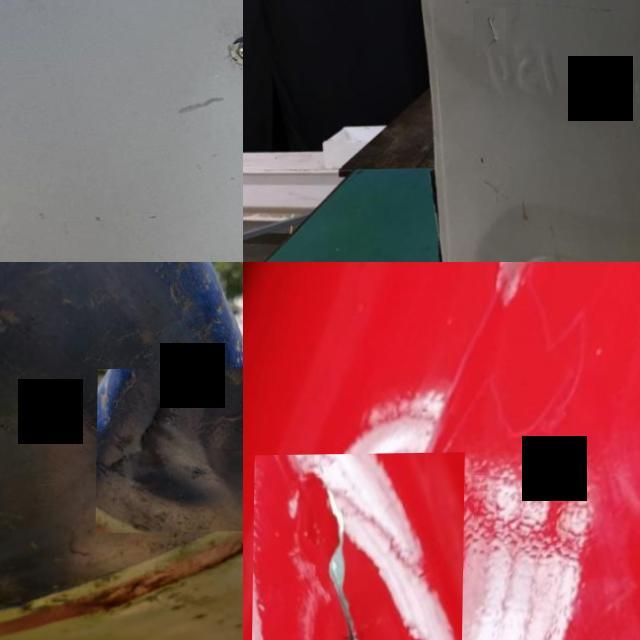Crack: (251, 453, 465, 640), (473, 9, 508, 57)
Dent: (97, 368, 243, 534)
